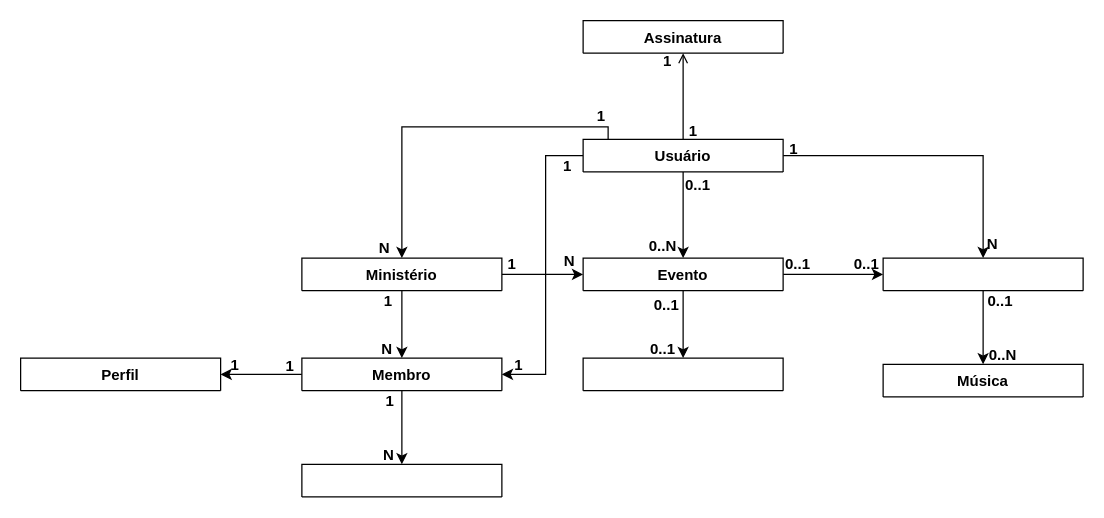
The diagram is 1104 pixels wide and 518 high, and some of its shapes have lost their labels. The centre of each missing label's shape, as x and y in pixels:
"Ausência" goes at (401,480).
"Escala" goes at (682,374).
"Repertório" goes at (982,274).
